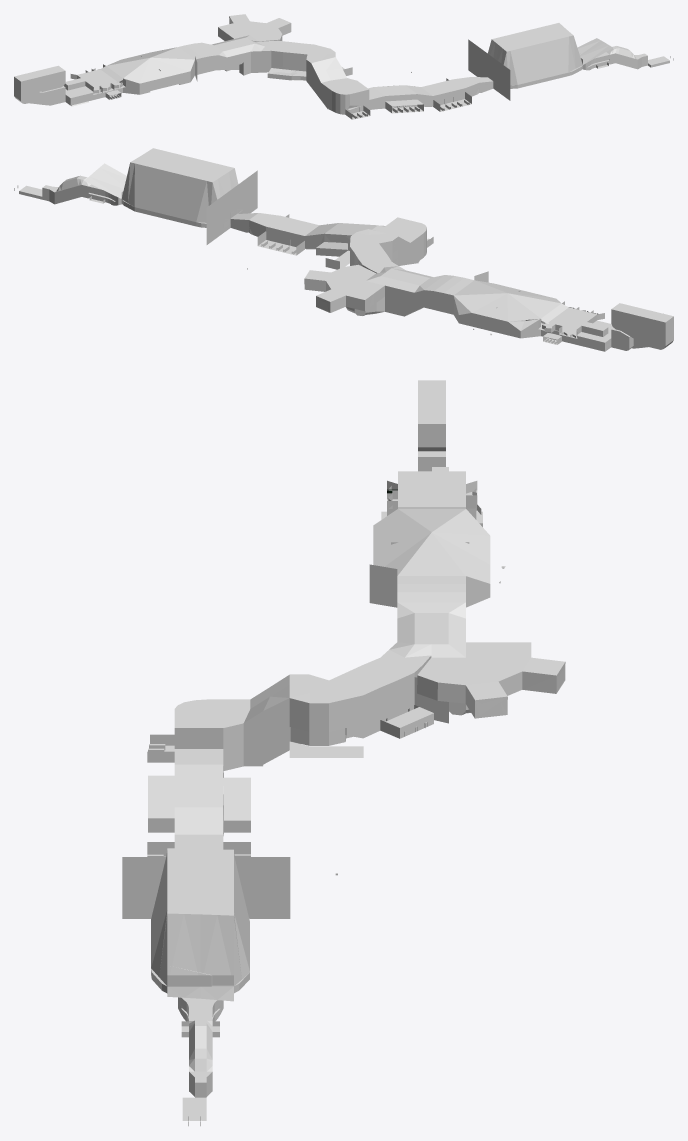
File: skmall.glb
The picture shows the model from 3 angles, top to bottom: view 1: azimuth 30°, elevation 25°; view 2: azimuth 150°, elevation 25°; view 3: azimuth 270°, elevation 25°; orthographic projection. The views are drawn at different scales.
Parts seen in each view (by area): view 1: SKMALL_Col_Floor, SKMALL_Col_Ride, SKMALL_Col_Wall; view 2: SKMALL_Col_Floor, SKMALL_Col_Ride, SKMALL_Col_Wall; view 3: SKMALL_Col_Floor, SKMALL_Col_Ride, SKMALL_Col_Wall.
Part boxes in pixels (x1,y1,x2,y2): SKMALL_Col_Floor: (14, 14, 669, 119); SKMALL_Col_Ride: (14, 35, 647, 114); SKMALL_Col_Wall: (64, 16, 673, 119); SKMALL_Col_Floor: (19, 148, 673, 344); SKMALL_Col_Ride: (42, 162, 673, 351); SKMALL_Col_Wall: (14, 164, 608, 344); SKMALL_Col_Floor: (147, 380, 564, 1120); SKMALL_Col_Ride: (151, 424, 490, 1097); SKMALL_Col_Wall: (122, 457, 565, 1126).
Bounding box in the file's own units: 626 × 82.69 × 202.
40 materials, 38 textured.
